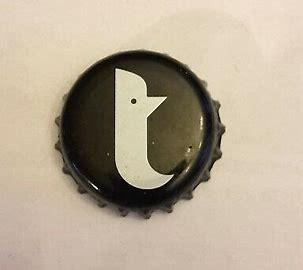metal: (57, 51, 225, 212)
